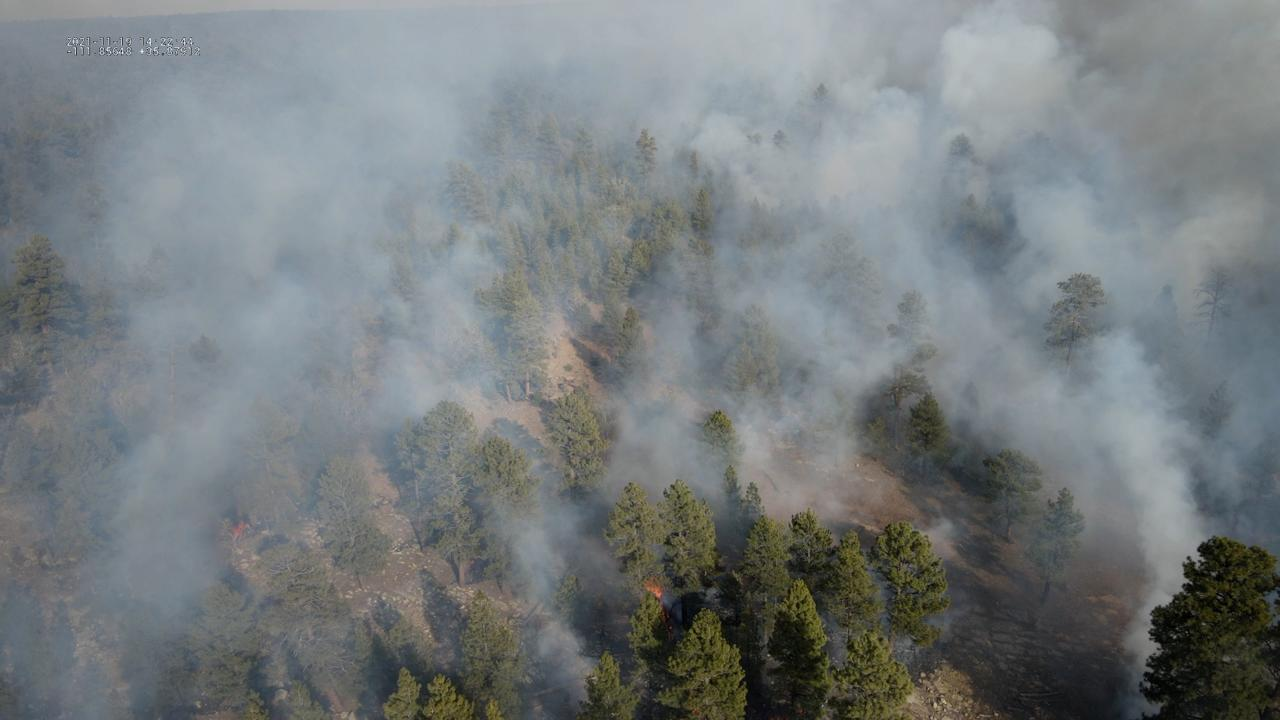fire: (643, 575, 672, 635), (229, 520, 247, 539)
smoke: (0, 0, 1280, 720)
